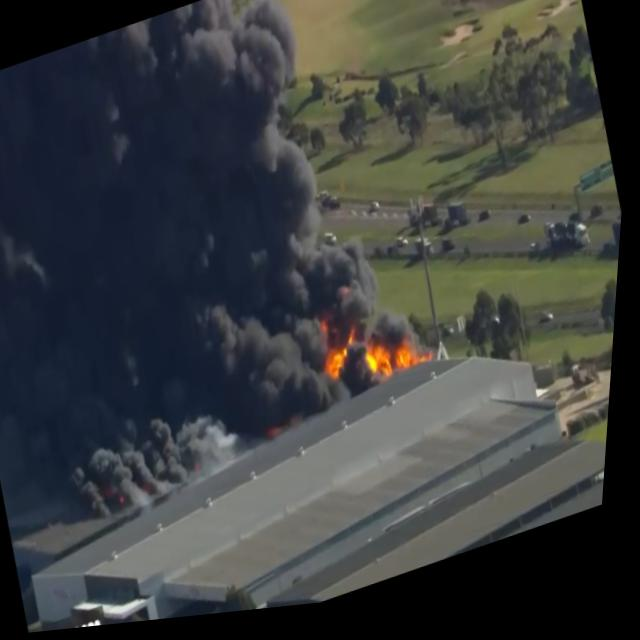Fire: (358, 340, 423, 399), (318, 334, 367, 392)
